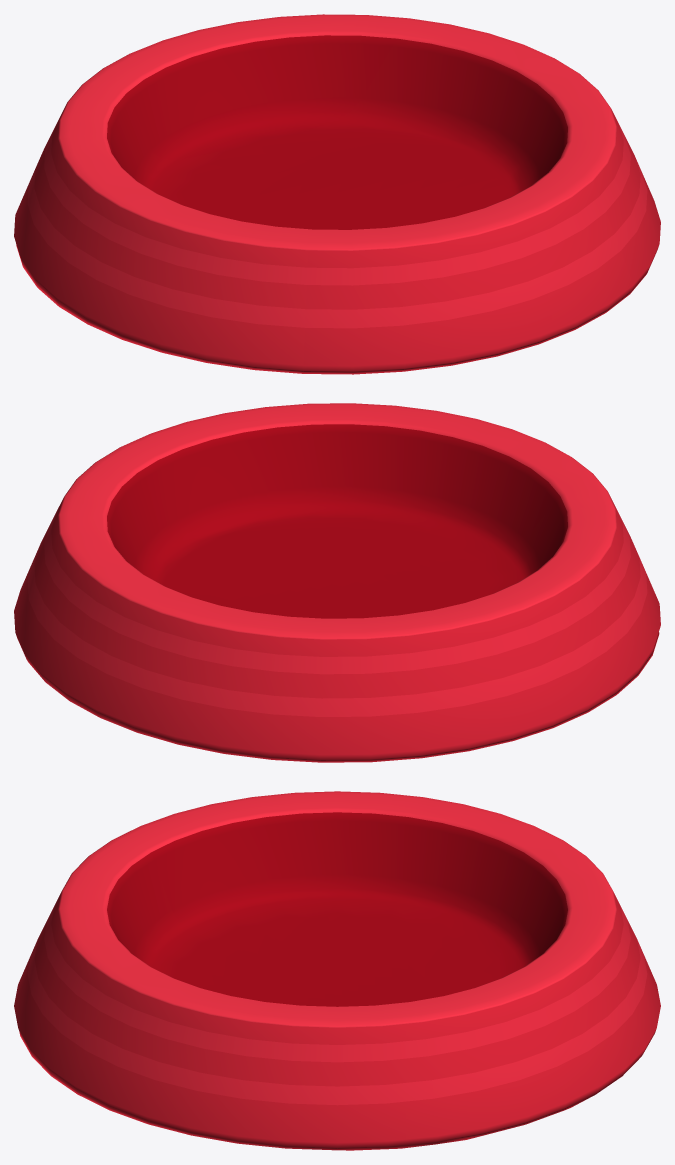
File: Cat_Food_Bowl.fbx
3 views of the same model, one above another, from view 1: azimuth 30°, elevation 25°; view 2: azimuth 150°, elevation 25°; view 3: azimuth 270°, elevation 25° (orthographic).
Parts seen in each view (by area): view 1: Cat_Food_Bowl; view 2: Cat_Food_Bowl; view 3: Cat_Food_Bowl.
Boxes of the visible parts, x1,y1,x2,y2 form: Cat_Food_Bowl: (14,14,660,374); Cat_Food_Bowl: (14,403,660,762); Cat_Food_Bowl: (14,791,660,1150).
Size of the model in its own units: 31.68 by 6.08 by 31.68.
1 material, 1 textured.
